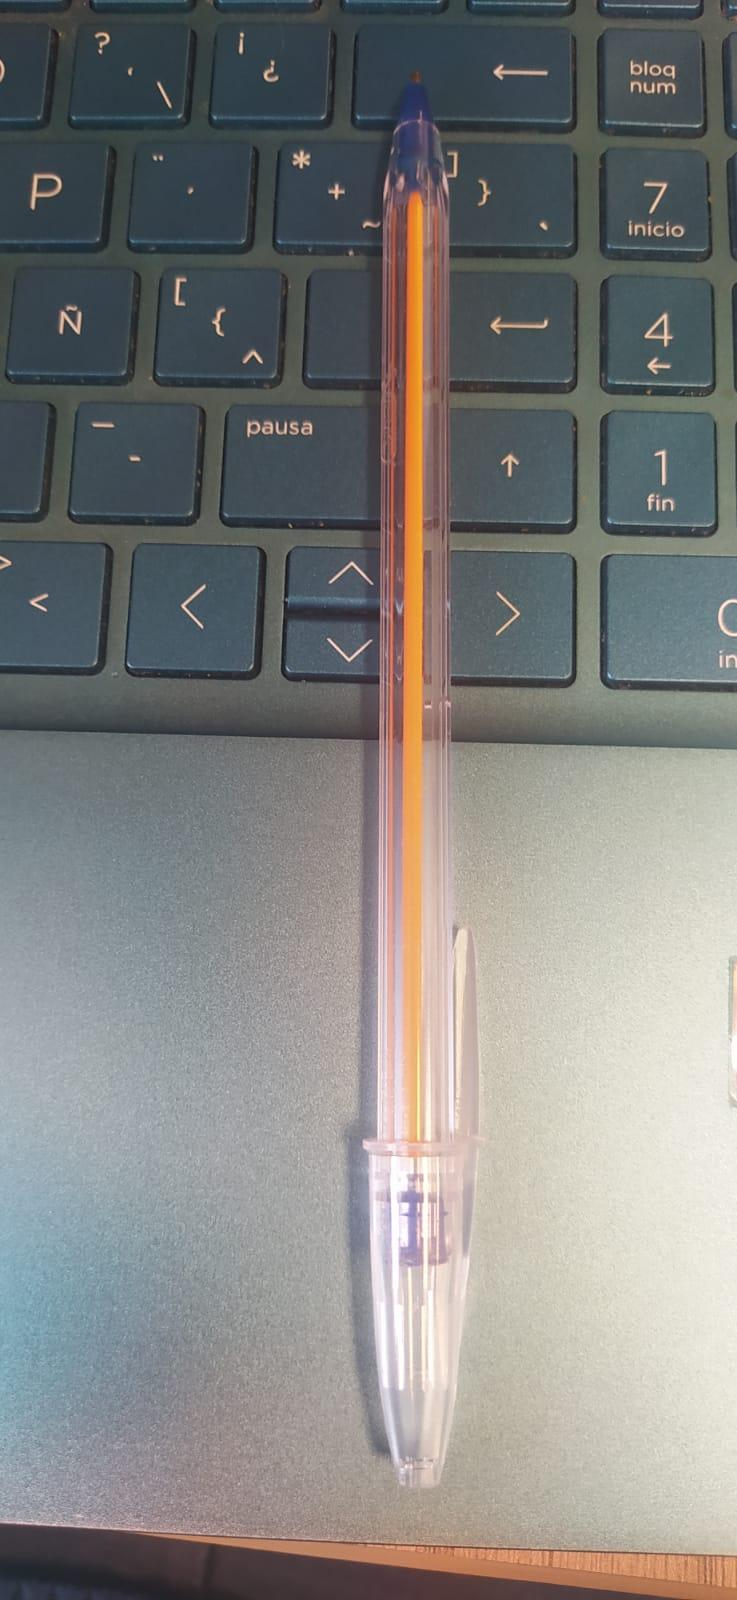pen: (353, 57, 482, 1494)
